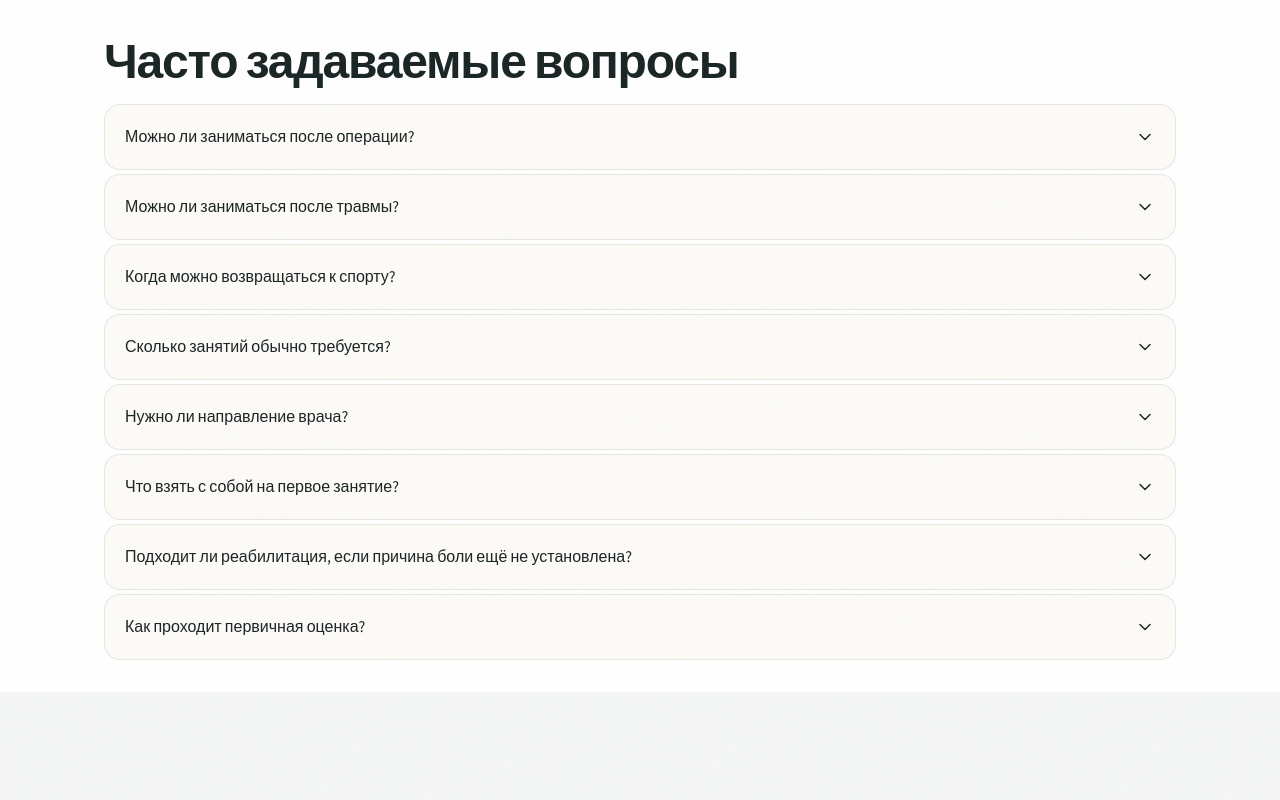
Scenario: FAQ › uses named buttons and synchronizes expanded state
The width and height of the screenshot is (1280, 800).
Step 1. Click the button "Можно ли заниматься после операции?" → (270, 136), box [105,105,1175,169]
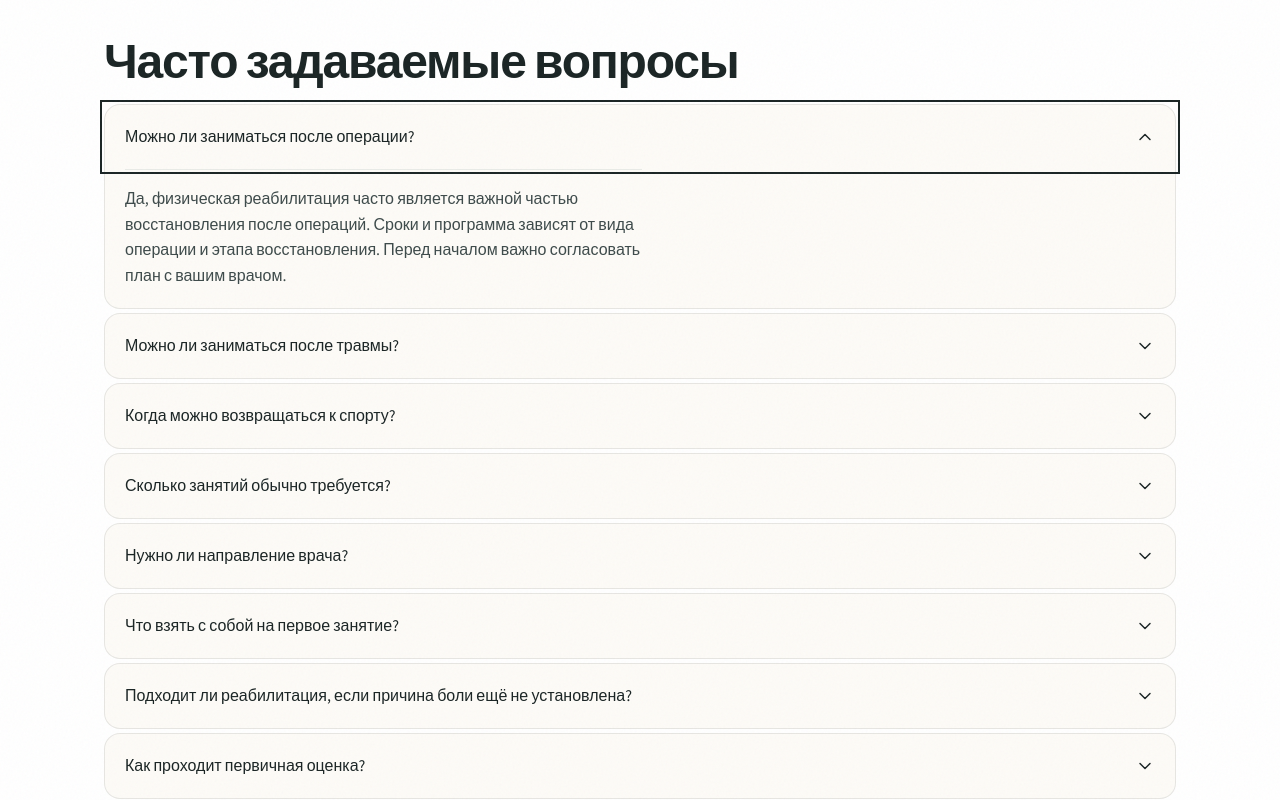
Now the button "Можно ли заниматься после операции?" is expanded, box [105,105,1175,169]
Now the element named "Можно ли заниматься после операции?" is shown, box [125,169,642,288]
